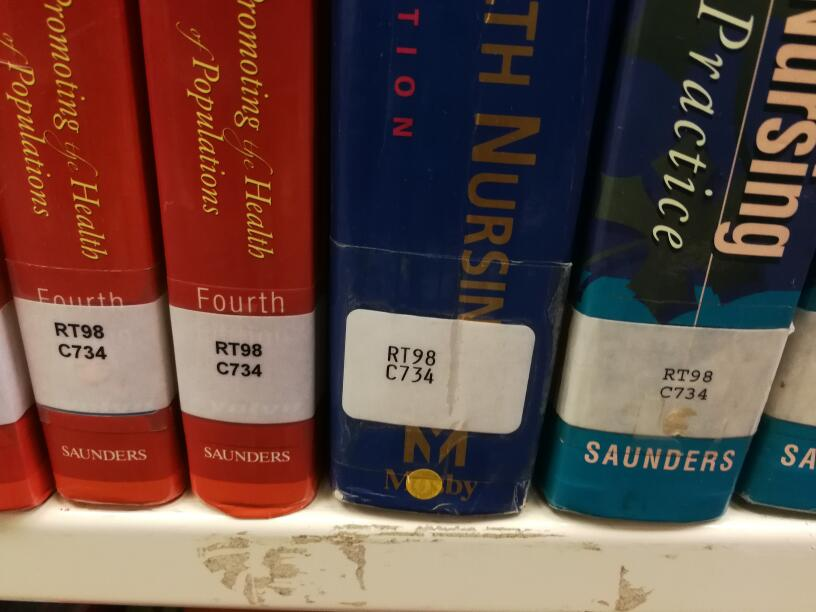booklabel: (52, 319, 109, 361), (385, 341, 439, 385), (657, 362, 715, 402), (211, 337, 267, 378)
